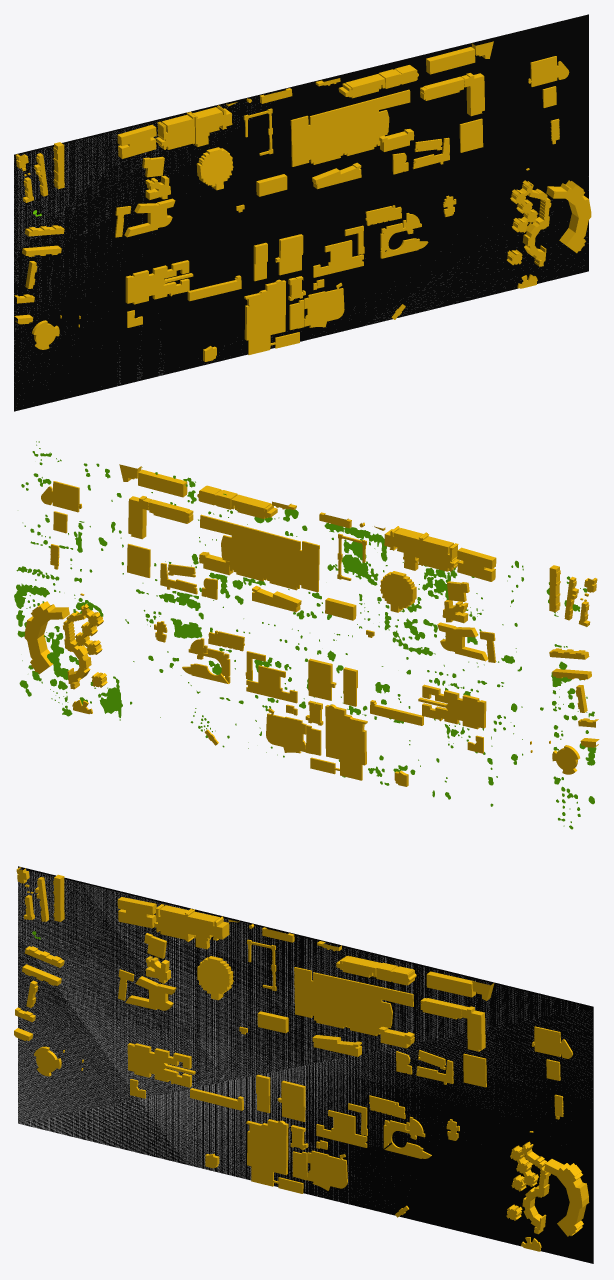
File: existing_trees_05.glb
The picture shows the model from 3 angles, top to bottom: view 1: azimuth 30°, elevation 25°; view 2: azimuth 150°, elevation 25°; view 3: azimuth 330°, elevation 25°; orthographic projection.
Visible parts, largest first — view 1: Layer 04, existing_building - Copy, base; view 2: existing_building - Copy, treesurface; view 3: Layer 04, base, existing_building - Copy.
Boxes of the visible parts, x1,y1,x2,y2 form: Layer 04: [14, 14, 588, 411]; existing_building - Copy: [14, 41, 591, 361]; base: [14, 104, 462, 398]; existing_building - Copy: [24, 464, 599, 786]; treesurface: [14, 441, 596, 829]; Layer 04: [18, 866, 593, 1263]; base: [18, 868, 592, 1204]; existing_building - Copy: [14, 867, 589, 1251].
Size of the model in its own units: 1006 by 441 by 20.85.
